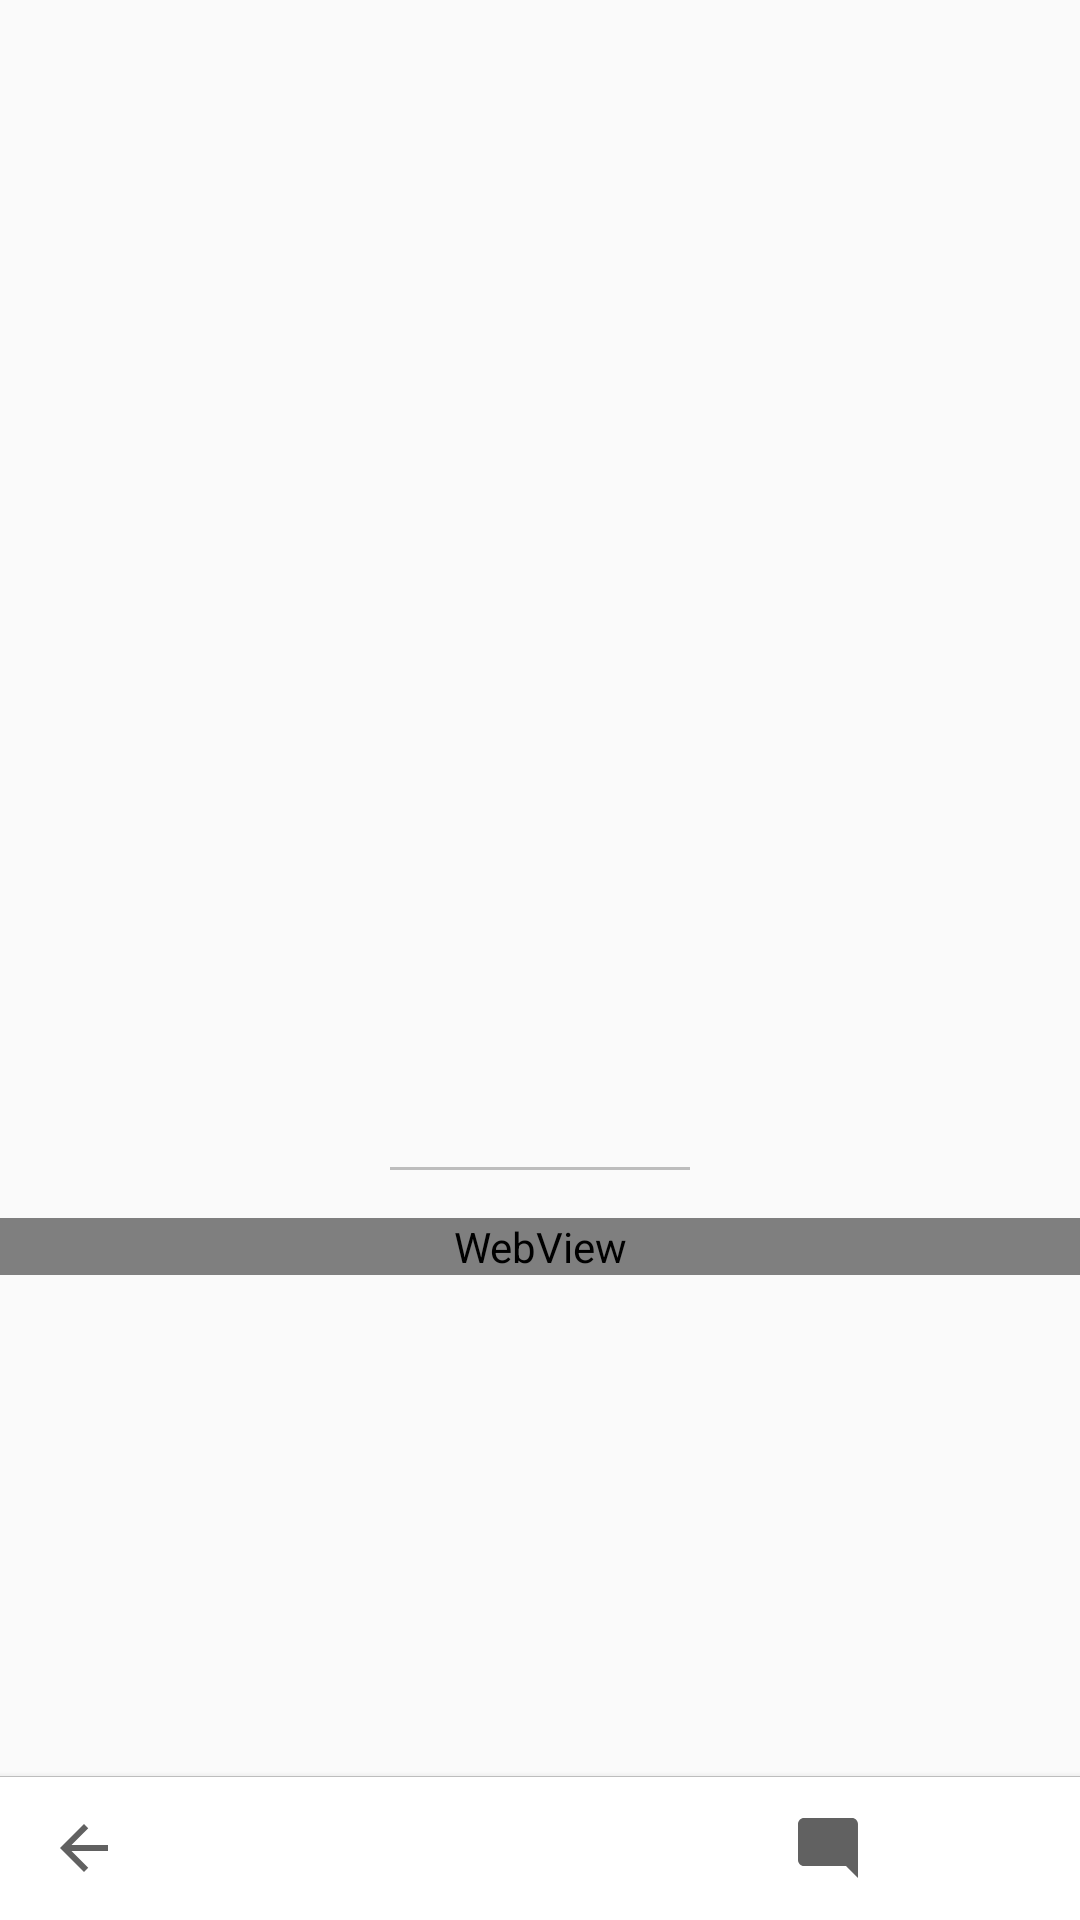

Screen size 1080×1920. Icon name, then its center in pixels as [x,y]:
arrow back: [84,1848]
mode comment: [828,1848]
